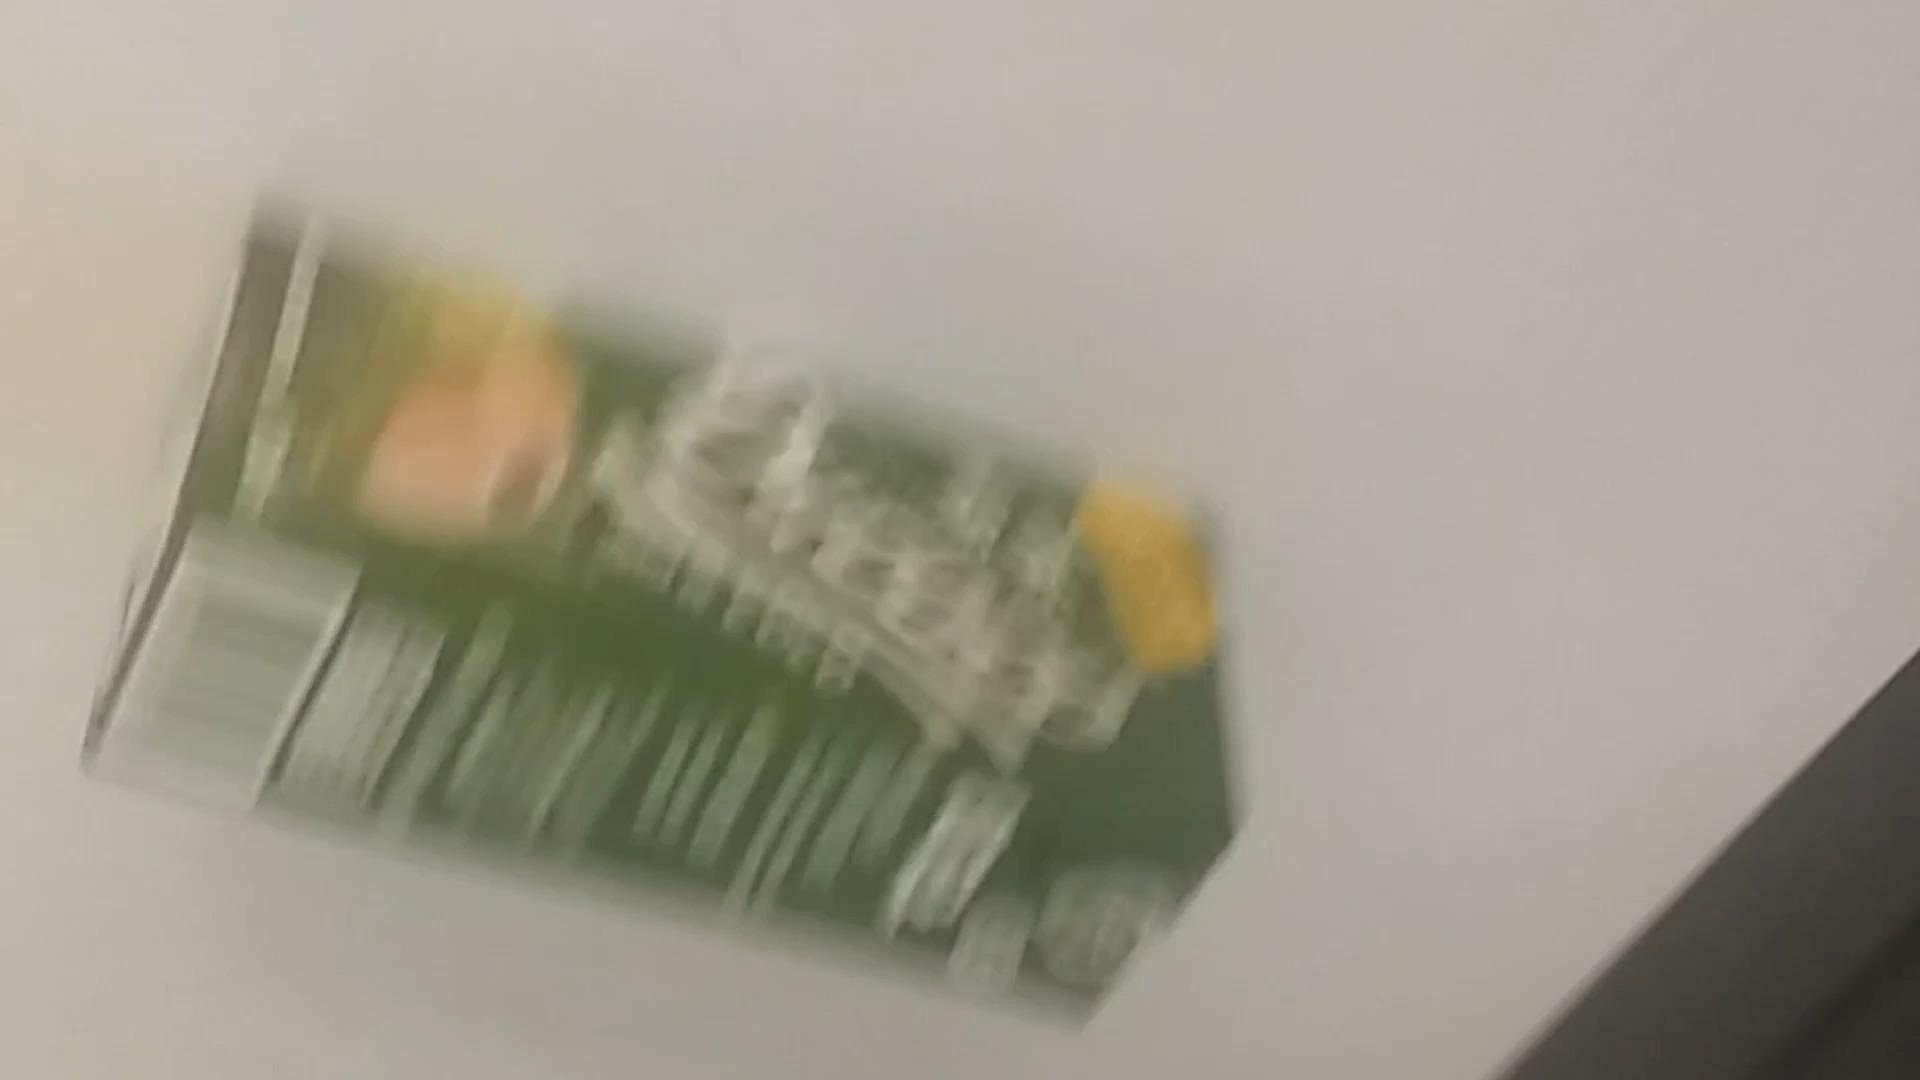coco: (73, 190, 1247, 1018)
